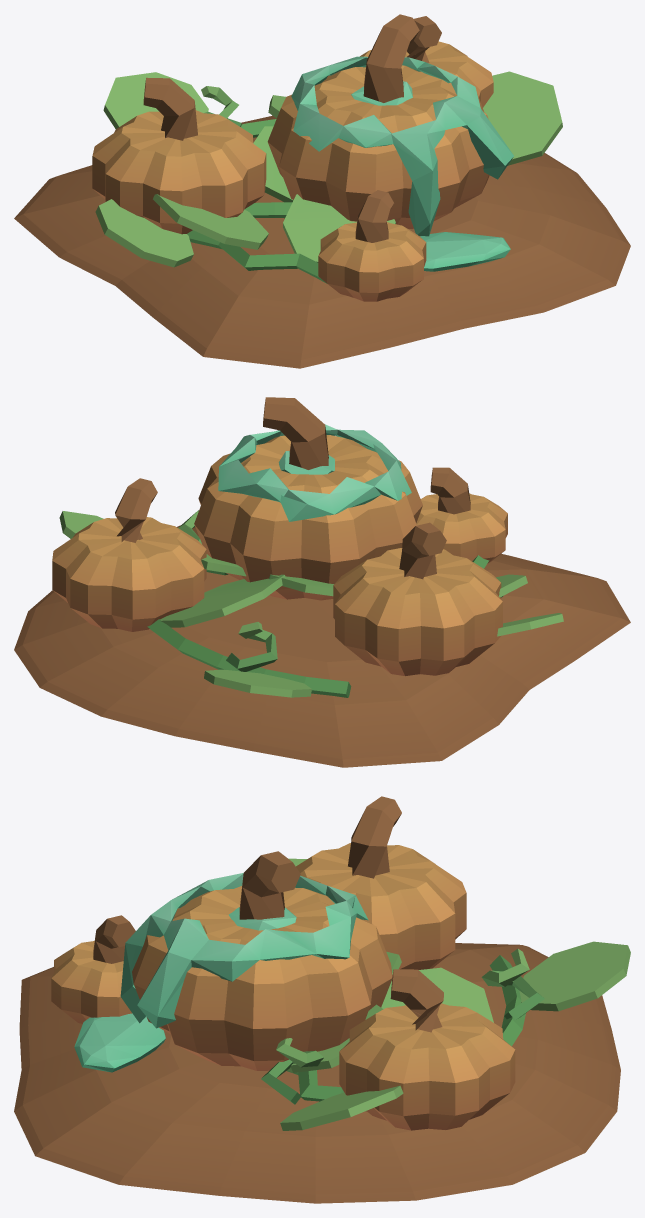
Rendered from ranch_pumpkin_patch.fbx.
3 renders of one model, top to bottom at view 1: azimuth 30°, elevation 25°; view 2: azimuth 150°, elevation 25°; view 3: azimuth 270°, elevation 25°, orthographic. The views are drawn at different scales.
Parts seen in each view (by area): view 1: ranch_pumpkin_patch; view 2: ranch_pumpkin_patch; view 3: ranch_pumpkin_patch.
Boxes of the visible parts, box(x1,y1,x2,y2) form: ranch_pumpkin_patch: box(14, 14, 630, 368); ranch_pumpkin_patch: box(14, 397, 630, 767); ranch_pumpkin_patch: box(14, 796, 630, 1203).
Size of the model in its own units: 6.48 by 2.71 by 6.36.
